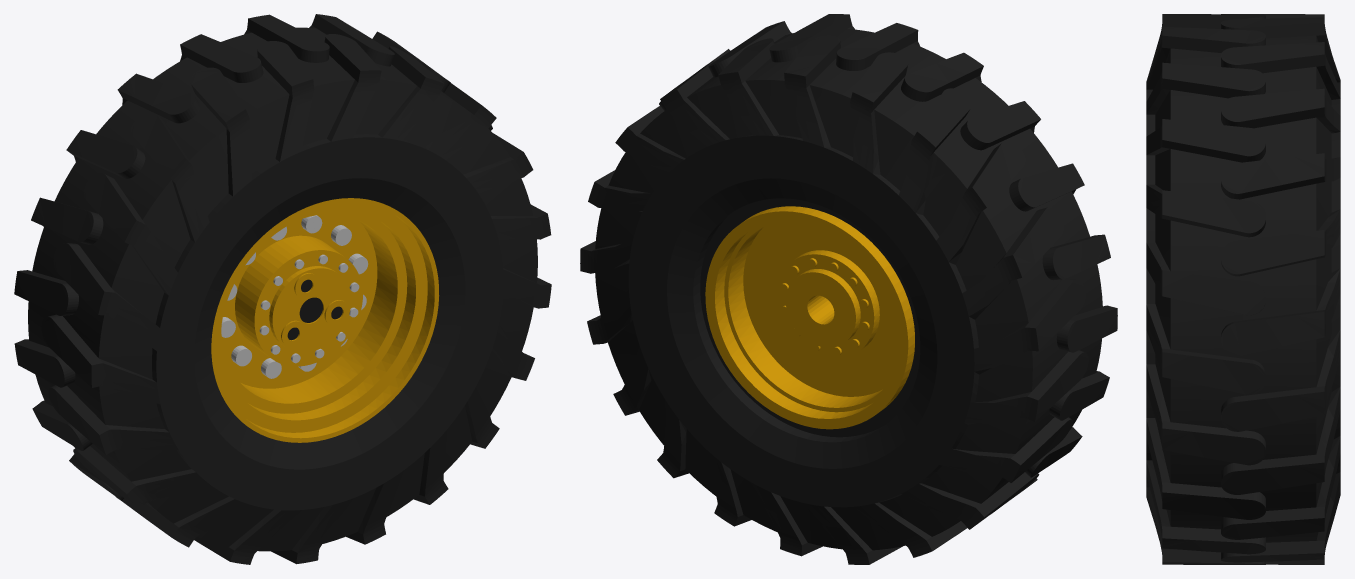
File: wheel_front_right_visual.dae
The picture shows the model from 3 angles, left to right: view 1: azimuth 30°, elevation 25°; view 2: azimuth 150°, elevation 25°; view 3: azimuth 270°, elevation 25°; orthographic projection. The views are drawn at different scales.
Visible parts, largest first — view 1: Wheel.FR.001; view 2: Wheel.FR.001; view 3: Wheel.FR.001.
Part boxes in pixels (x1,y1,x2,y2): Wheel.FR.001: (14, 14, 551, 564); Wheel.FR.001: (580, 14, 1117, 564); Wheel.FR.001: (1146, 14, 1340, 564).
Size of the model in its own units: 4.25 by 1.5 by 4.25.
